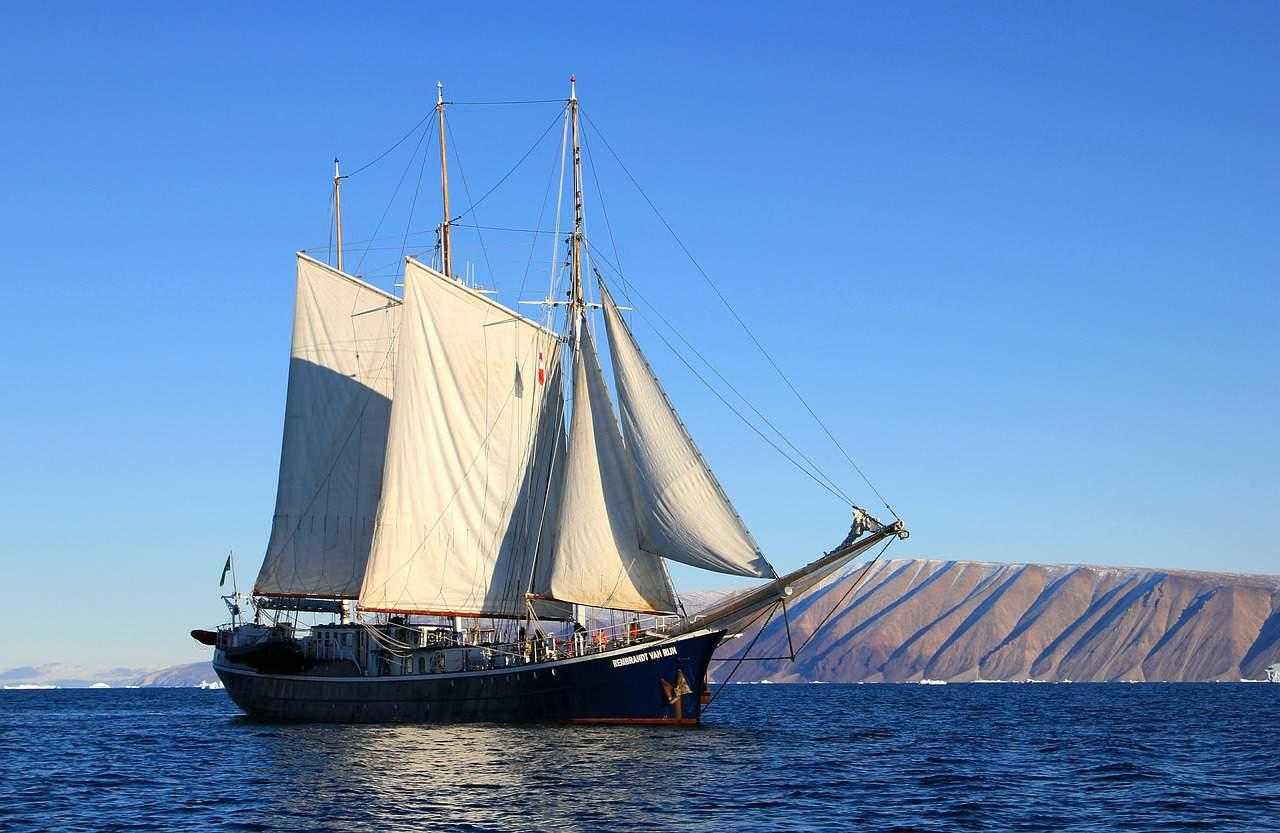Ship: (194, 78, 909, 733)
